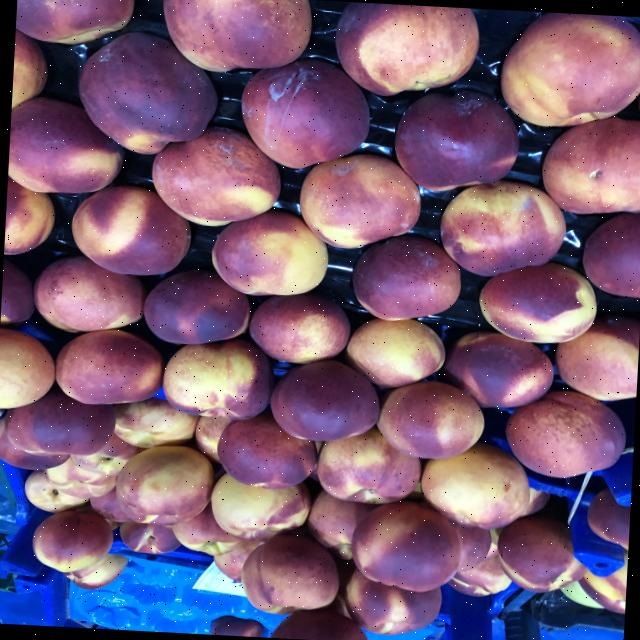peach: (500, 12, 640, 125), (241, 59, 369, 168), (335, 1, 478, 95), (151, 126, 279, 224), (299, 154, 420, 247), (505, 390, 625, 477), (350, 501, 460, 590), (212, 209, 327, 294), (352, 235, 459, 319), (162, 338, 273, 418), (316, 426, 420, 503), (55, 329, 163, 403)
